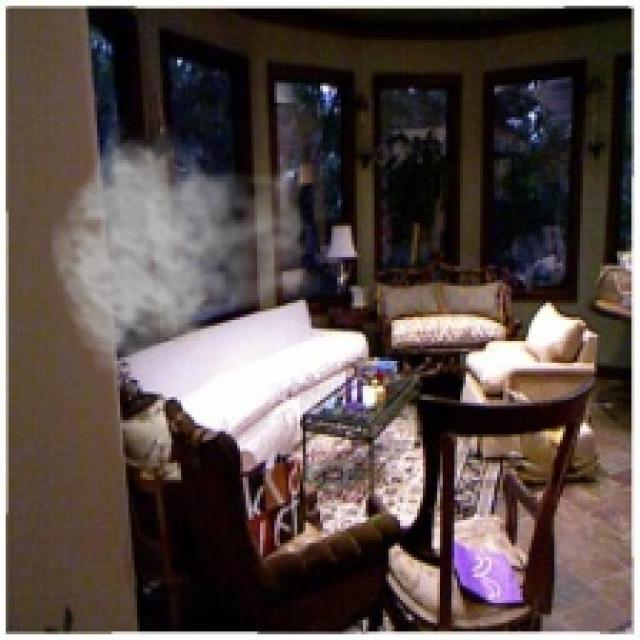Smoke: (48, 117, 326, 374)
